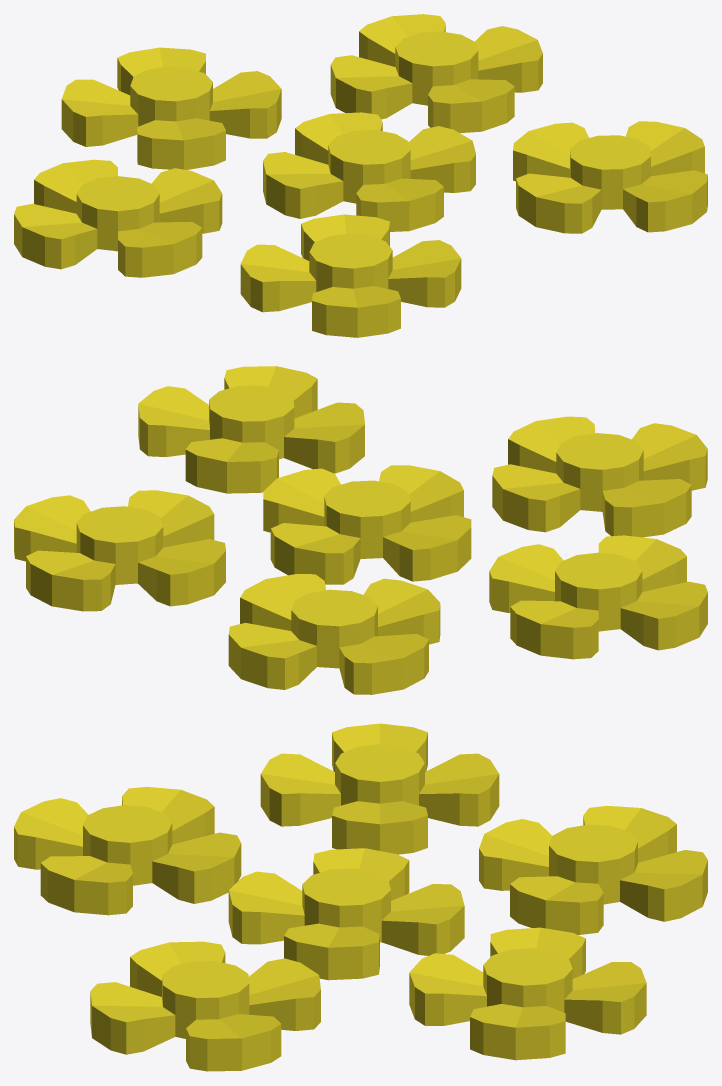
File: Florecitas.fbx
The picture shows the model from 3 angles, top to bottom: view 1: azimuth 30°, elevation 25°; view 2: azimuth 150°, elevation 25°; view 3: azimuth 270°, elevation 25°; orthographic projection. The views are drawn at different scales.
Visible parts, largest first — view 1: FLores; view 2: FLores; view 3: FLores.
Part boxes in pixels (bbox=[...]): FLores: bbox=[14, 14, 707, 337]; FLores: bbox=[14, 366, 707, 694]; FLores: bbox=[14, 723, 707, 1071].
Bounding box in the file's own units: 1.95 × 0.1247 × 1.81.
